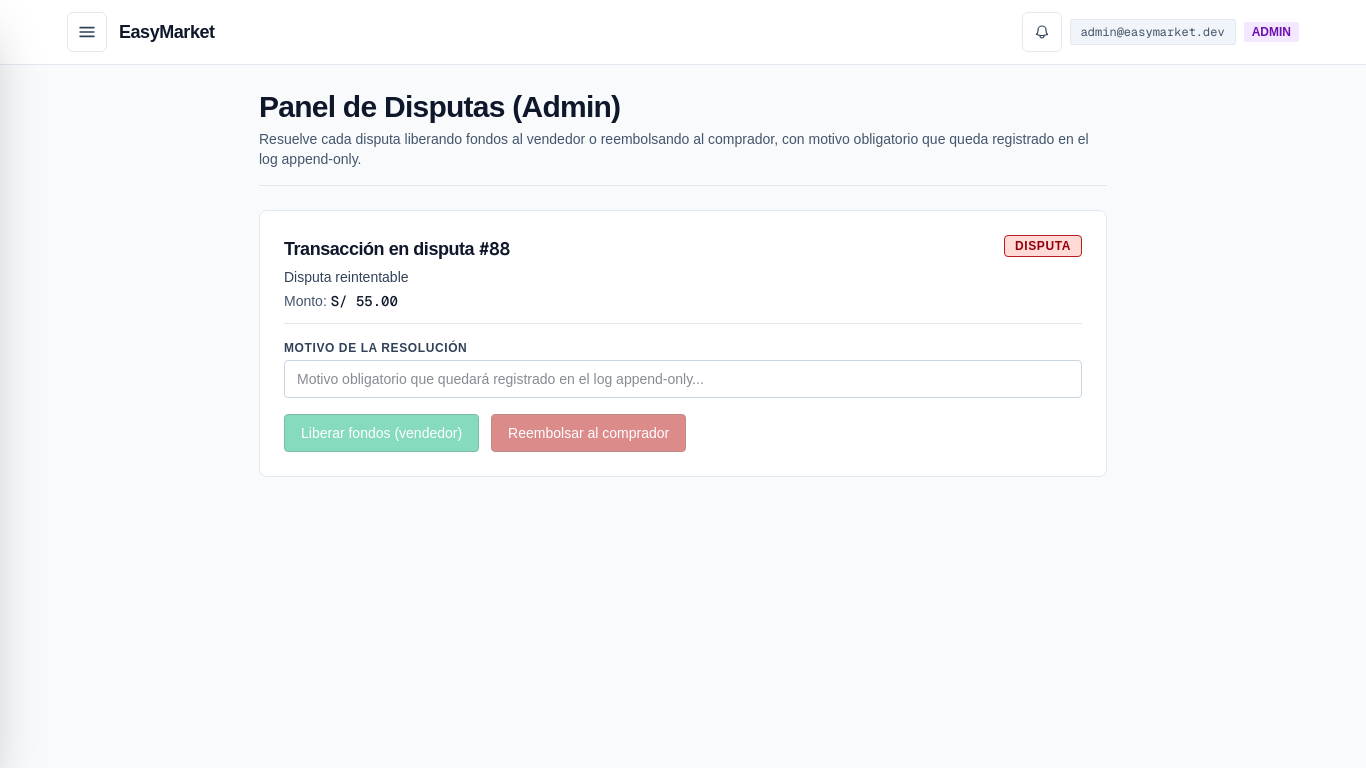
PHA06TSK13-L02 - cobertura administrativa requerida › permite reintentar una disputa tras error HTTP con segundo body exacto y retiro solo tras éxito
Replace the text in the field labelled "Motivo de la resolución" with "Entrega acreditada" at (683, 379), box [284, 360, 1082, 398]
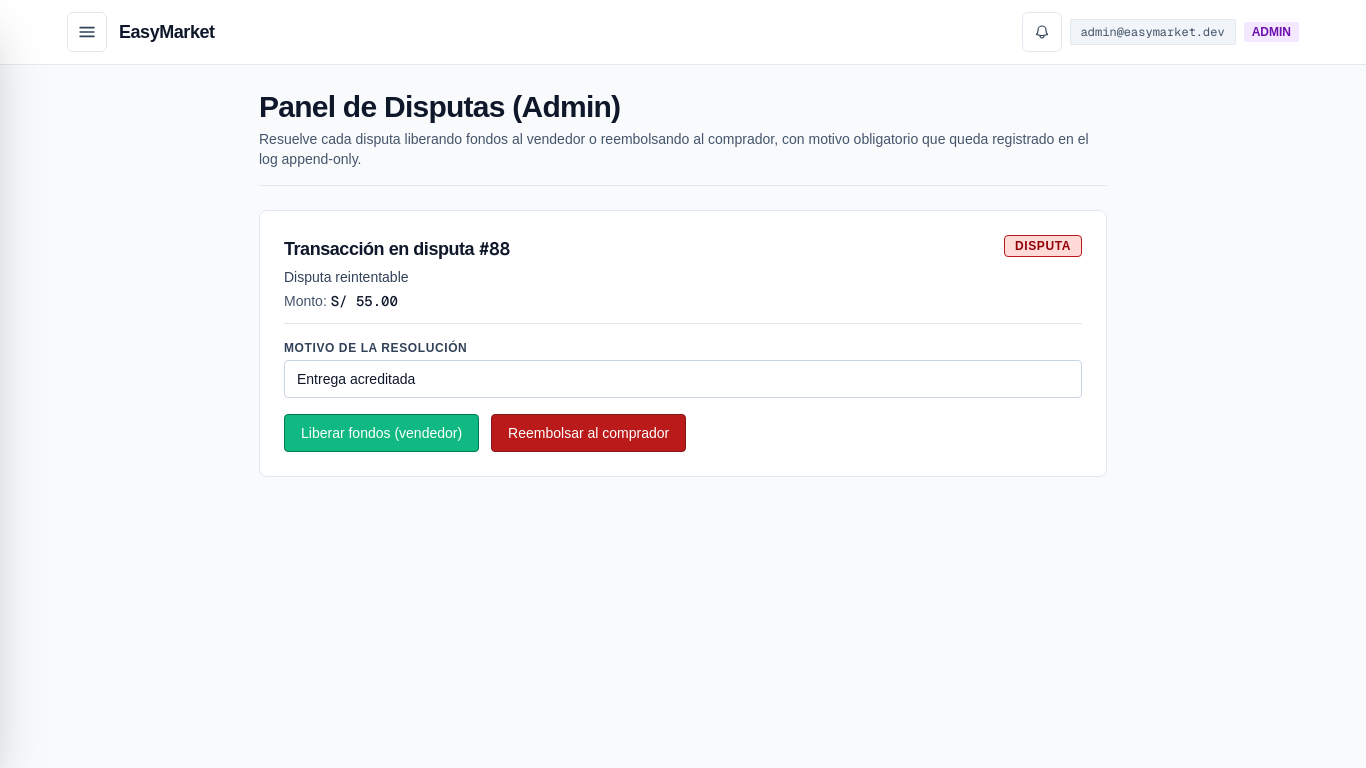
Click the button "Liberar fondos (vendedor)" at (382, 433), box [284, 414, 479, 452]
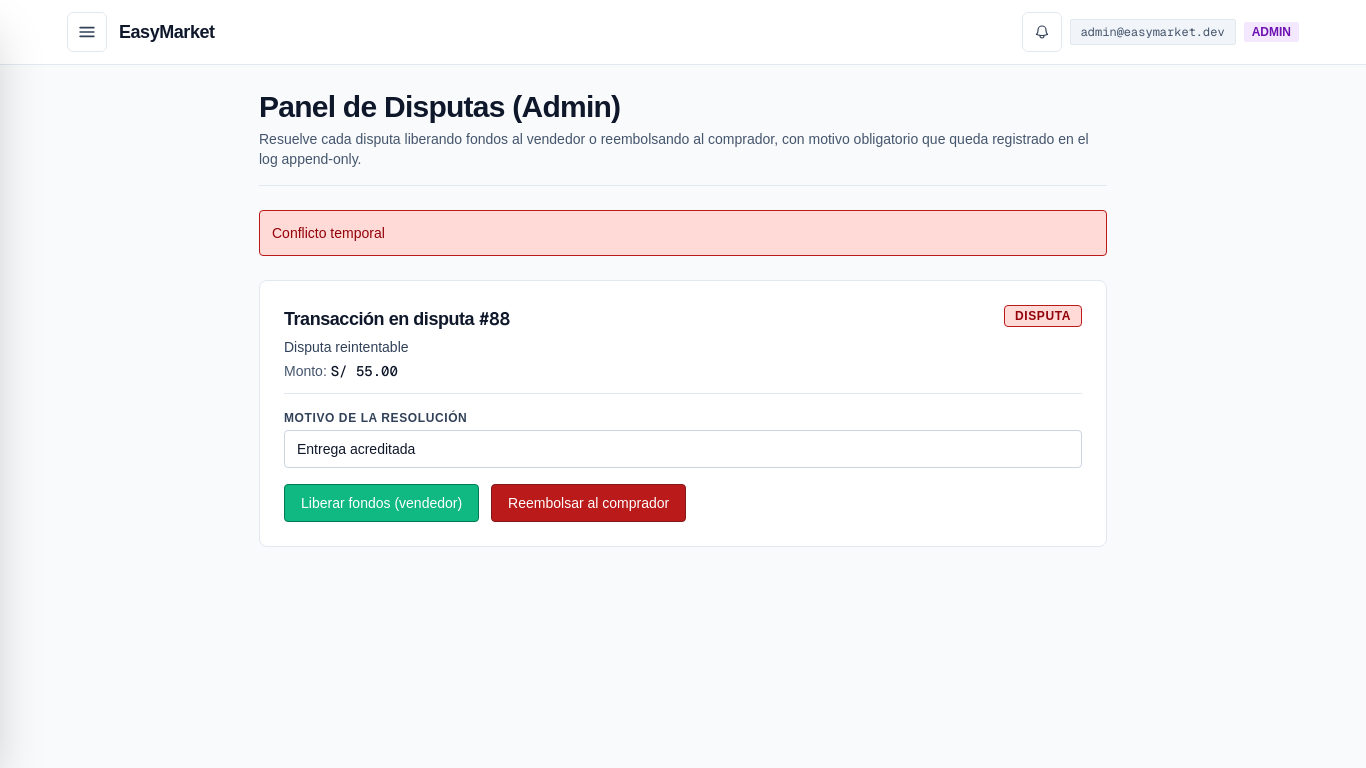
Expected: the text "Disputa reintentable" is shown, [284, 339, 408, 355]
Expected: the text "Conflicto temporal" is shown, [259, 210, 1107, 256]
Click the button "Liberar fondos (vendedor)" at (382, 503), box [284, 484, 479, 522]
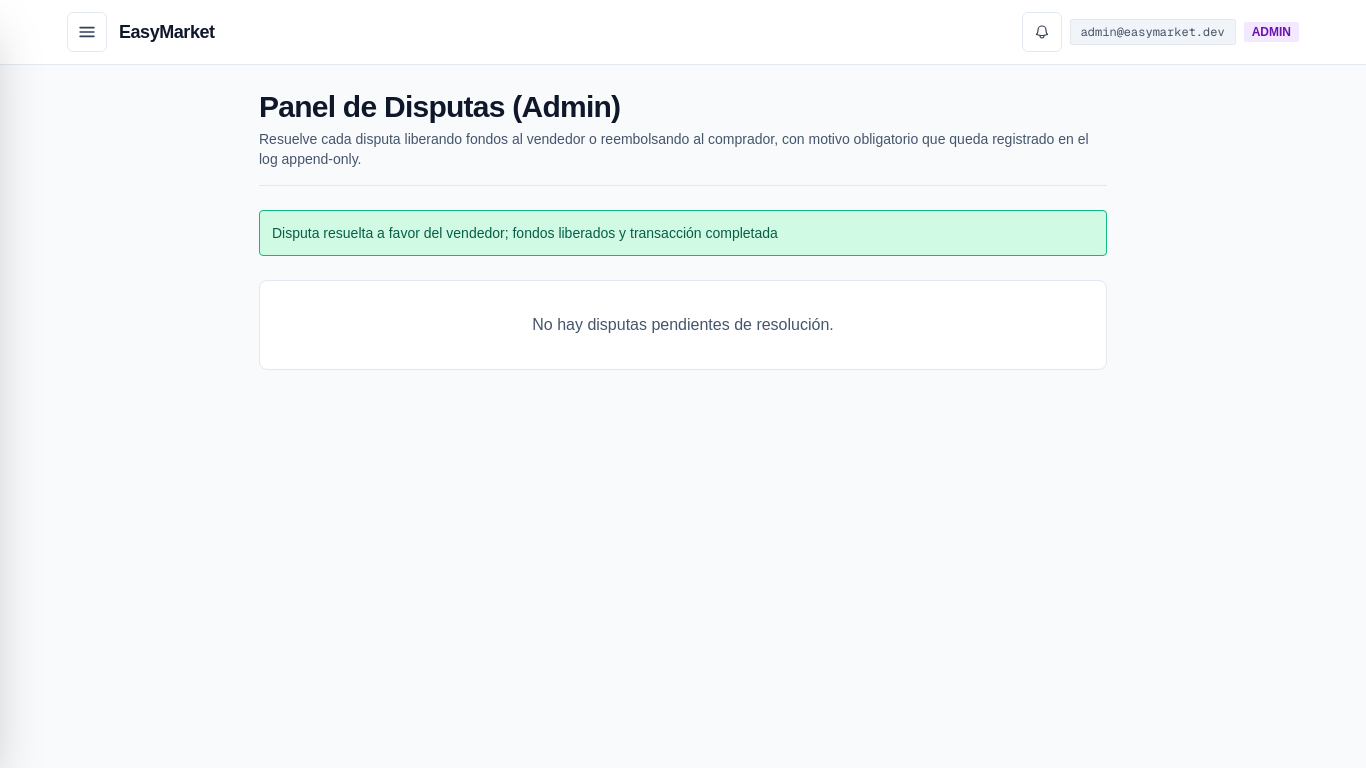
Expected: the text "Disputa resuelta a favor del vendedor" is shown, [272, 225, 778, 241]
Expected: the text "Disputa reintentable" is gone
